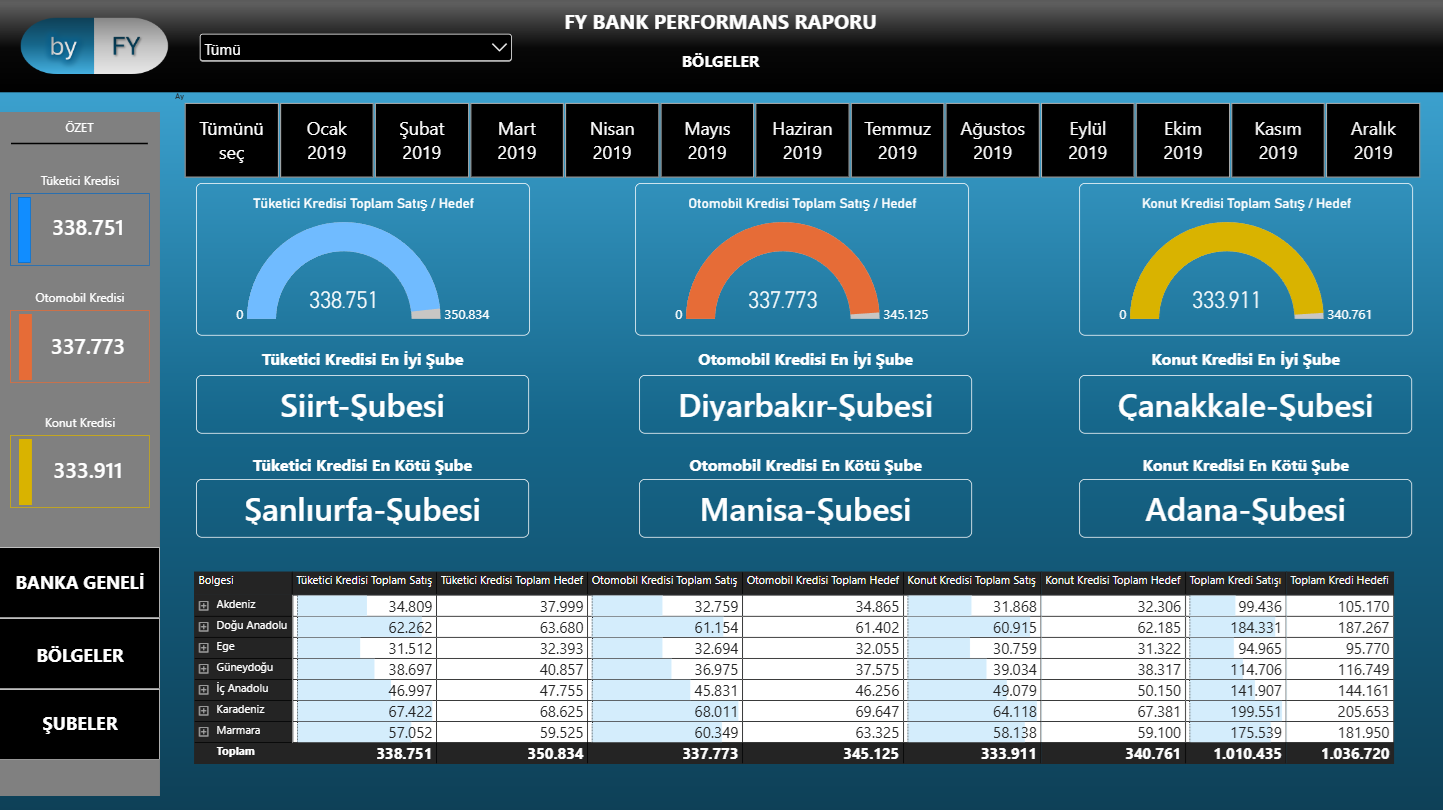

What the dashboard file says about the page in this screenshot:
{"tool":"powerbi","page":{"name":"BÖLGELER","canvas":[1920,1080],"ordinal":1},"visuals":[{"type":"textbox","box":[746.2,9.3,426.9,46.6],"z":0},{"type":"textbox","box":[746.2,66.5,426.9,46.6],"z":1000},{"type":"shape","box":[0,149,214.1,909.8],"z":2000},{"type":"textbox","box":[14.6,228.8,186.2,27.9],"z":3000},{"type":"shape","box":[16,179.6,182.2,22.6],"z":4000},{"type":"shape","box":[14.6,256.7,186.2,97.1],"z":5000},{"type":"textbox","box":[10.6,158.3,192.9,42.6],"z":6000},{"type":"shape","box":[25.3,262,17.3,87.8],"z":7000},{"type":"textbox","box":[14.6,384.4,186.2,27.9],"z":8000},{"type":"shape","box":[14.6,412.3,186.2,97.1],"z":9000},{"type":"shape","box":[26,417,17.3,87.8],"z":10000},{"type":"textbox","box":[14.6,550.6,186.2,27.9],"z":11000},{"type":"shape","box":[14.6,578.6,186.2,97.1],"z":12000},{"type":"shape","box":[26,583.3,17.3,87.8],"z":13000},{"type":"shape","box":[0,727.5,214.1,94.4],"z":14000},{"type":"shape","box":[0,822,214.1,94.4],"z":15000},{"type":"shape","box":[0,916.4,214.1,94.4],"z":16000},{"type":"textbox","box":[9.3,756.8,196.8,37.2],"z":17000},{"type":"textbox","box":[9.3,944.3,196.8,39.9],"z":18000},{"type":"textbox","box":[9.3,853.9,196.8,31.9],"z":19000},{"type":"slicer","fields":{"Values":["Krediler.Ay"]},"box":[226,121.7,1683,116.9],"z":20000},{"type":"slicer","fields":{"Values":["Sube_Listesi.Bolgesi"]},"box":[262.6,39.4,424.6,51.1],"z":21000},{"type":"gauge","title":"Tüketici Kredisi Toplam Satış / Hedef","fields":{"MaxValue":["Ölçüler.Tüketici Kredisi Toplam Hedef"],"Y":["Ölçüler.Tüketici Kredisi Toplam Satış"]},"box":[262.1,242.9,443.5,202.8],"z":21001},{"type":"gauge","title":"Otomobil Kredisi Toplam Satış / Hedef","fields":{"MaxValue":["Ölçüler.Otomobil Kredisi Toplam Hedef"],"Y":["Ölçüler.Otomobil Kredisi Toplam Satış"]},"box":[845.4,242.9,443.5,202.8],"z":21002},{"type":"gauge","title":"Konut Kredisi Toplam Satış / Hedef","fields":{"MaxValue":["Ölçüler.Konut Kredisi Toplam Hedef"],"Y":["Ölçüler.Konut Kredisi Toplam Satış"]},"box":[1436.9,242.9,443.5,202.8],"z":21003},{"type":"card","fields":{"Values":["Ölçüler.Tüketici Kredisi Toplam Satış"]},"box":[42.3,259.7,151.7,88.5],"z":21004},{"type":"card","fields":{"Values":["Ölçüler.Konut Kredisi Toplam Satış"]},"box":[42.3,582.1,151.7,88.5],"z":21005},{"type":"card","fields":{"Values":["Ölçüler.Otomobil Kredisi Toplam Satış"]},"box":[42.7,417.2,151.7,88.5],"z":21006},{"type":"textbox","box":[262.1,462.5,443.3,46.7],"z":21007},{"type":"card","fields":{"Values":["Min(Sube_Listesi.Sube Adı)"]},"box":[262.1,498.2,443.3,78.2],"z":21008},{"type":"textbox","box":[262.1,603.9,443.3,46.7],"z":21009},{"type":"card","fields":{"Values":["Min(Sube_Listesi.Sube Adı)"]},"box":[262.1,636.8,443.3,78.2],"z":21010},{"type":"textbox","box":[850.9,462.5,443.3,46.7],"z":21011},{"type":"card","fields":{"Values":["Min(Sube_Listesi.Sube Adı)"]},"box":[850.9,498.2,443.3,78.2],"z":21012},{"type":"textbox","box":[850.9,603.9,443.3,46.7],"z":21013},{"type":"card","fields":{"Values":["Min(Sube_Listesi.Sube Adı)"]},"box":[850.9,636.8,443.3,78.2],"z":21014},{"type":"textbox","box":[1436.9,462.5,443.3,46.7],"z":21015},{"type":"card","fields":{"Values":["Min(Sube_Listesi.Sube Adı)"]},"box":[1436.9,498.2,443.3,78.2],"z":21016},{"type":"textbox","box":[1436.9,603.9,443.3,46.7],"z":21017},{"type":"card","fields":{"Values":["Min(Sube_Listesi.Sube Adı)"]},"box":[1436.9,636.8,443.3,78.2],"z":21018},{"type":"pivotTable","fields":{"Rows":["Sube_Listesi.Bolgesi","Sube_Listesi.Sube Adı"],"Values":["Ölçüler.Tüketici Kredisi Toplam Satış","Ölçüler.Tüketici Kredisi Toplam Hedef","Ölçüler.Otomobil Kredisi Toplam Satış","Ölçüler.Otomobil Kredisi Toplam Hedef","Ölçüler.Konut Kredisi Toplam Satış","Ölçüler.Konut Kredisi Toplam Hedef","Ölçüler.Toplam Kredi Satışı","Ölçüler.Toplam Kredi Hedefi"]},"box":[242.9,746.6,1646.9,301.9],"z":21019}]}

Visuals, with their boxes in screenshot pixels (x1, y1, x2, y2), scaled from the page's 1920x1080 canvas onto the 1443x810 screenshot:
textbox: {"left": 561, "top": 7, "right": 882, "bottom": 42}
textbox: {"left": 561, "top": 50, "right": 882, "bottom": 85}
shape: {"left": 0, "top": 112, "right": 161, "bottom": 794}
textbox: {"left": 11, "top": 172, "right": 151, "bottom": 193}
shape: {"left": 12, "top": 135, "right": 149, "bottom": 152}
shape: {"left": 11, "top": 193, "right": 151, "bottom": 265}
textbox: {"left": 8, "top": 119, "right": 153, "bottom": 151}
shape: {"left": 19, "top": 196, "right": 32, "bottom": 262}
textbox: {"left": 11, "top": 288, "right": 151, "bottom": 309}
shape: {"left": 11, "top": 309, "right": 151, "bottom": 382}
shape: {"left": 20, "top": 313, "right": 33, "bottom": 379}
textbox: {"left": 11, "top": 413, "right": 151, "bottom": 434}
shape: {"left": 11, "top": 434, "right": 151, "bottom": 507}
shape: {"left": 20, "top": 437, "right": 33, "bottom": 503}
shape: {"left": 0, "top": 546, "right": 161, "bottom": 616}
shape: {"left": 0, "top": 616, "right": 161, "bottom": 687}
shape: {"left": 0, "top": 687, "right": 161, "bottom": 758}
textbox: {"left": 7, "top": 568, "right": 155, "bottom": 596}
textbox: {"left": 7, "top": 708, "right": 155, "bottom": 738}
textbox: {"left": 7, "top": 640, "right": 155, "bottom": 664}
slicer - Krediler.Ay: {"left": 170, "top": 91, "right": 1435, "bottom": 179}
slicer - Sube_Listesi.Bolgesi: {"left": 197, "top": 30, "right": 516, "bottom": 68}
"Tüketici Kredisi Toplam Satış / Hedef" gauge: {"left": 197, "top": 182, "right": 530, "bottom": 334}
"Otomobil Kredisi Toplam Satış / Hedef" gauge: {"left": 635, "top": 182, "right": 969, "bottom": 334}
"Konut Kredisi Toplam Satış / Hedef" gauge: {"left": 1080, "top": 182, "right": 1413, "bottom": 334}
card - Ölçüler.Tüketici Kredisi Toplam Satış: {"left": 32, "top": 195, "right": 146, "bottom": 261}
card - Ölçüler.Konut Kredisi Toplam Satış: {"left": 32, "top": 437, "right": 146, "bottom": 503}
card - Ölçüler.Otomobil Kredisi Toplam Satış: {"left": 32, "top": 313, "right": 146, "bottom": 379}
textbox: {"left": 197, "top": 347, "right": 530, "bottom": 382}
card - Min(Sube_Listesi.Sube Adı): {"left": 197, "top": 374, "right": 530, "bottom": 432}
textbox: {"left": 197, "top": 453, "right": 530, "bottom": 488}
card - Min(Sube_Listesi.Sube Adı): {"left": 197, "top": 478, "right": 530, "bottom": 536}
textbox: {"left": 640, "top": 347, "right": 973, "bottom": 382}
card - Min(Sube_Listesi.Sube Adı): {"left": 640, "top": 374, "right": 973, "bottom": 432}
textbox: {"left": 640, "top": 453, "right": 973, "bottom": 488}
card - Min(Sube_Listesi.Sube Adı): {"left": 640, "top": 478, "right": 973, "bottom": 536}
textbox: {"left": 1080, "top": 347, "right": 1413, "bottom": 382}
card - Min(Sube_Listesi.Sube Adı): {"left": 1080, "top": 374, "right": 1413, "bottom": 432}
textbox: {"left": 1080, "top": 453, "right": 1413, "bottom": 488}
card - Min(Sube_Listesi.Sube Adı): {"left": 1080, "top": 478, "right": 1413, "bottom": 536}
pivotTable - Sube_Listesi.Bolgesi x Sube_Listesi.Sube Adı: {"left": 183, "top": 560, "right": 1420, "bottom": 786}
